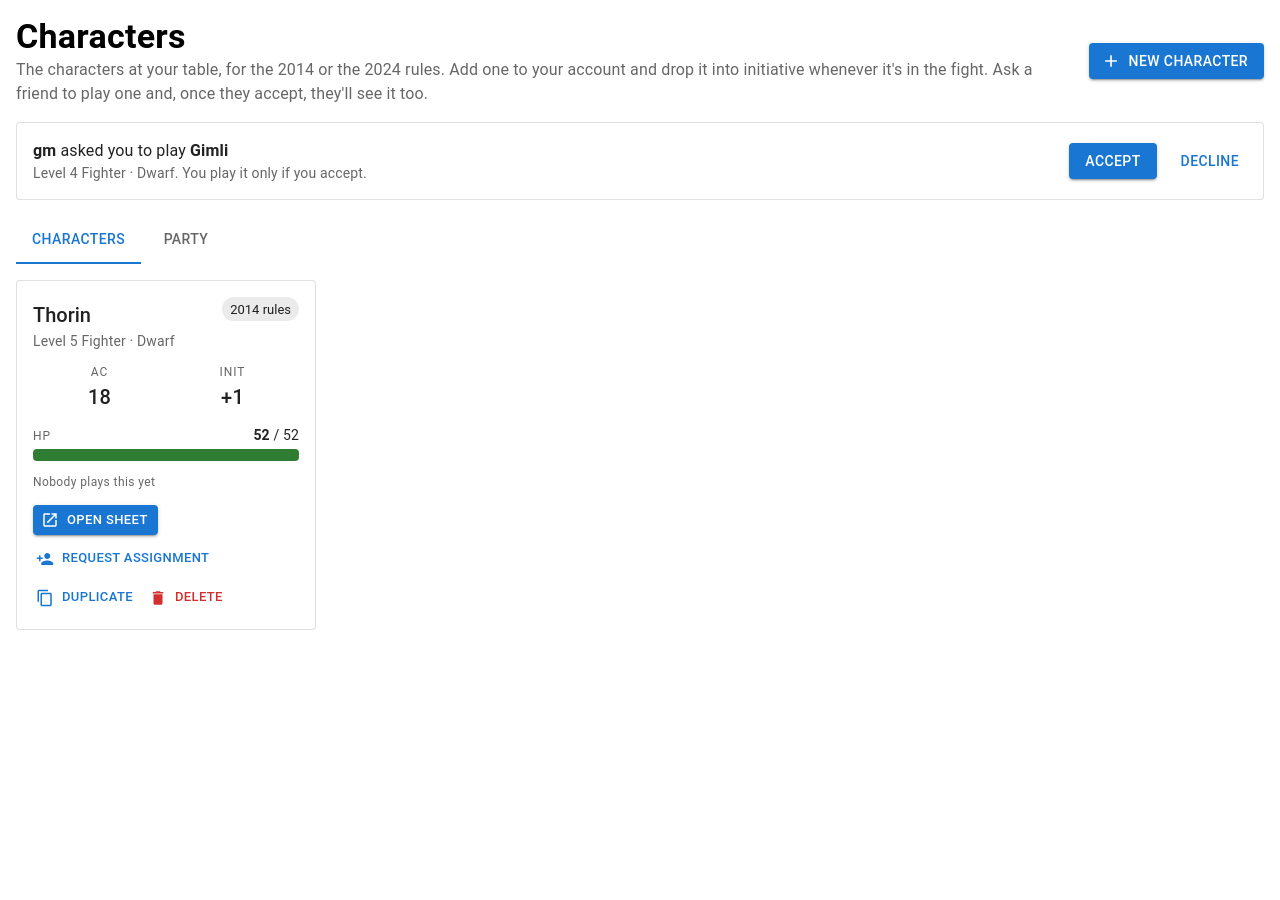
Scenario: being asked › shows who asked and about which character, and accepting brings the character in
Expected: the element named "Requests to play a character" shows "gm asked you to play Gimli", [16,122,1264,200]
Expected: the element named "Requests to play a character" shows "Level 4 Fighter · Dwarf", [33,165,175,181]
Click the button with aria-label "Accept Gimli". click: (1113, 161)
box: [1069,143,1157,179]
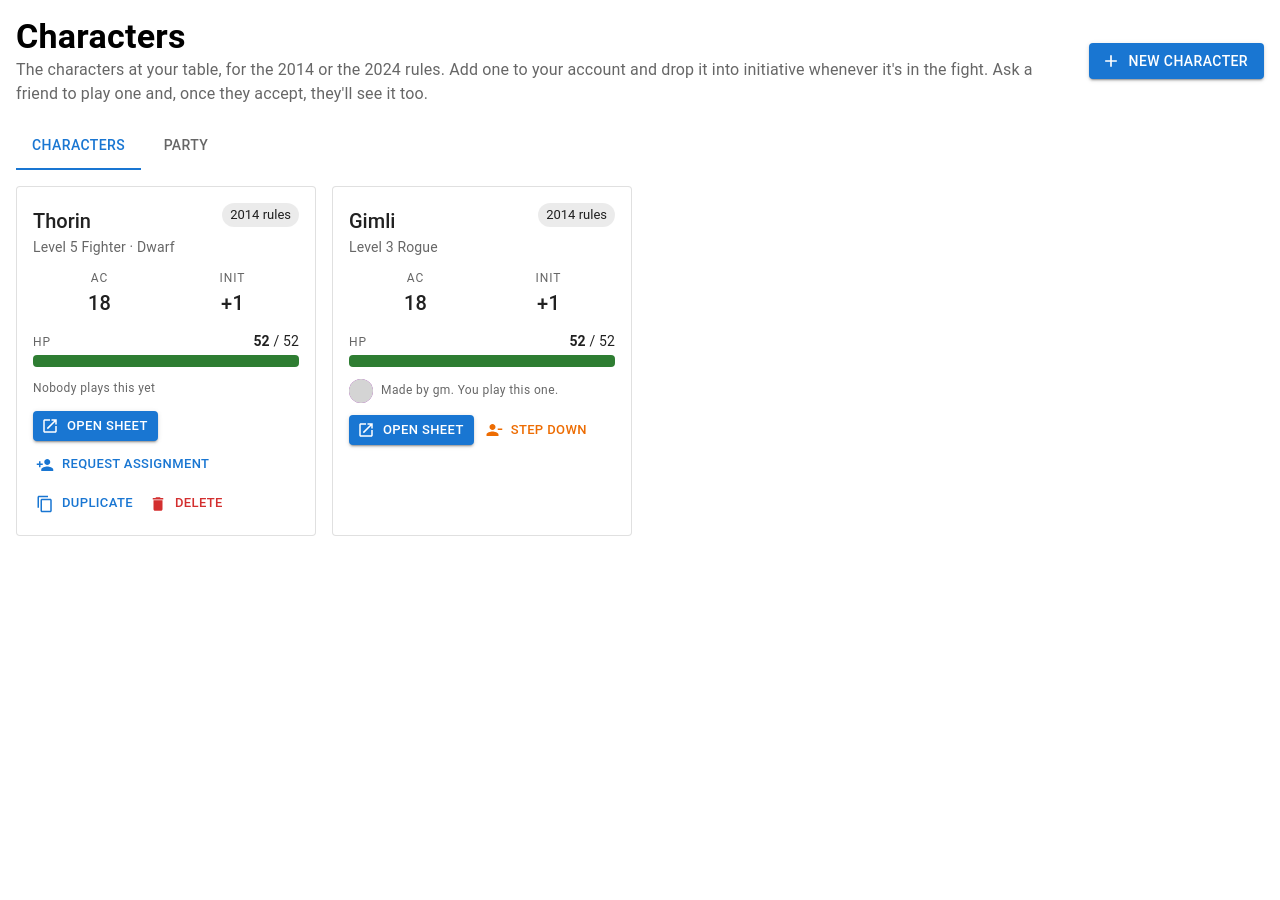
Now the element "Gimli" is shown, box [332,186,632,536]
